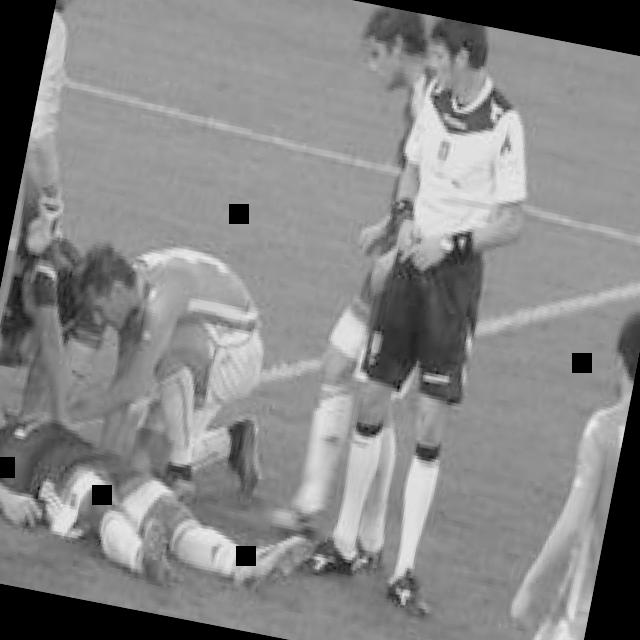Fall-Detected: (0, 366, 359, 615)
